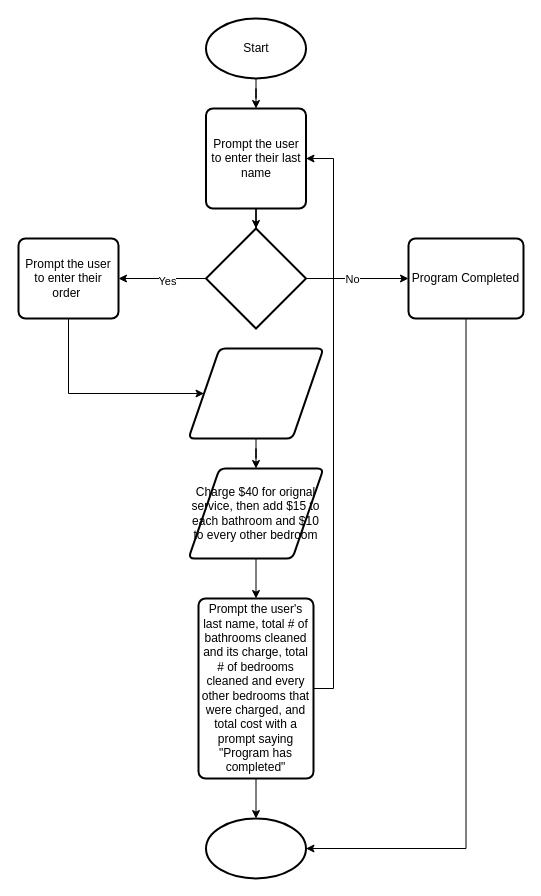
This 541x896 diagram has some shape labels left out. Each missing label, with the centre of its shape:
"End" goes at (255,848).
"If user enters last name" goes at (255,278).
"User enters the number of bathrooms and rooms that need to be cleaned" goes at (255,393).
